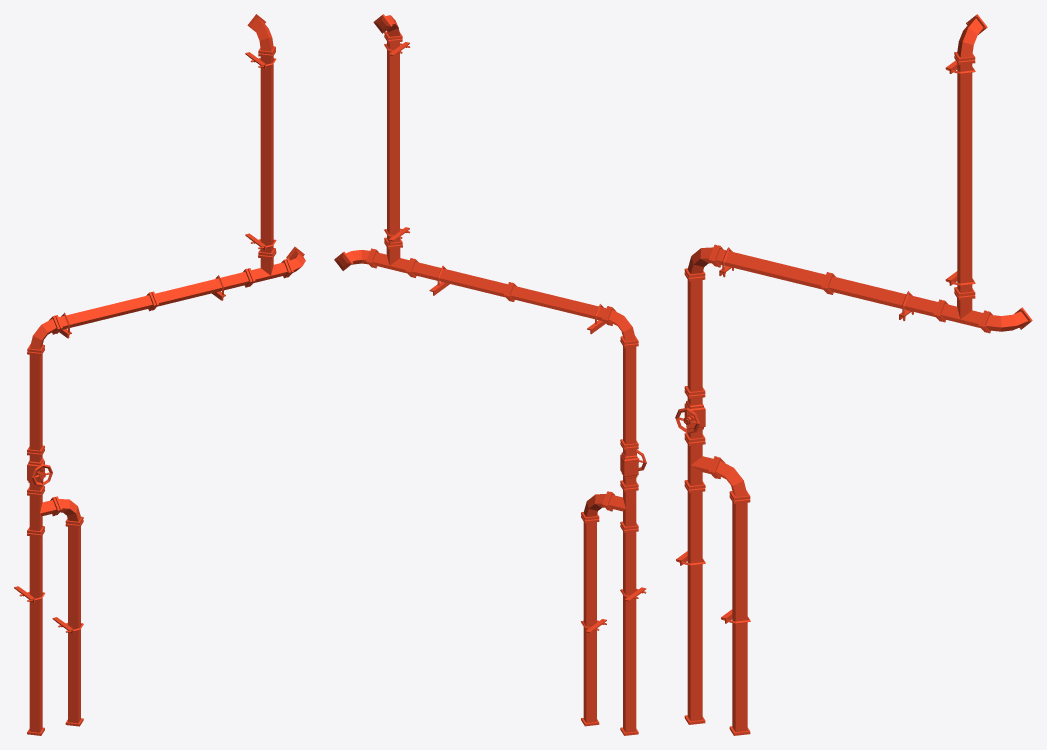
Rendered from SM_Pipe_Set_A_City.fbx.
3 renders of one model, left to right at view 1: azimuth 30°, elevation 25°; view 2: azimuth 150°, elevation 25°; view 3: azimuth 330°, elevation 25°, orthographic. The views are drawn at different scales.
Visible parts, largest first — view 1: SM_Pipe_Set_A_City; view 2: SM_Pipe_Set_A_City; view 3: SM_Pipe_Set_A_City.
Part boxes in pixels (bbox=[...]): SM_Pipe_Set_A_City: bbox=[14, 14, 305, 735]; SM_Pipe_Set_A_City: bbox=[334, 14, 646, 735]; SM_Pipe_Set_A_City: bbox=[675, 14, 1032, 735].
Size of the model in its own units: 1.51 by 3.25 by 0.1689.
